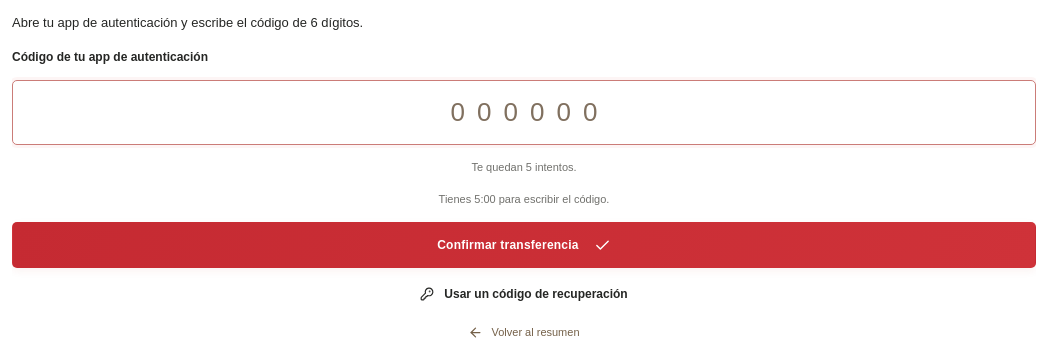
Test: StepUpPanel with an authenticator app › always asks for 6 digits, whatever length the tenant uses for SMS
The width and height of the screenshot is (1048, 355).
Type "12345678" into the field labelled "Código de tu app de autenticación".
click(524, 113); type("12345678")  # box [12,80,1036,145]
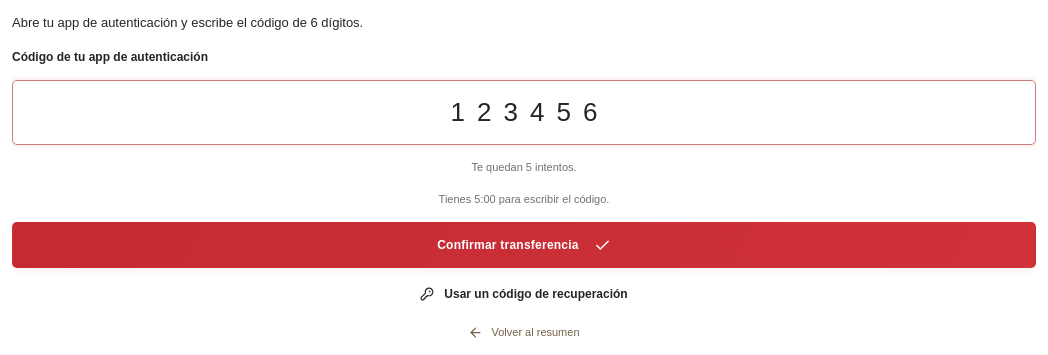
Expected: the field labelled "Código de tu app de autenticación" holds "123456", [12,80,1036,145]
